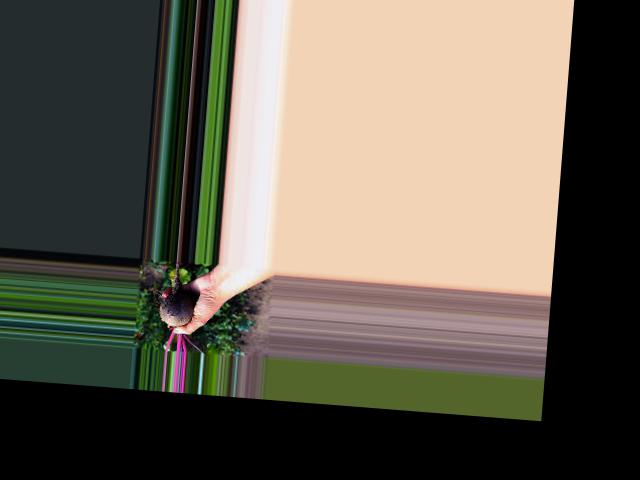beet: (142, 258, 211, 353)
